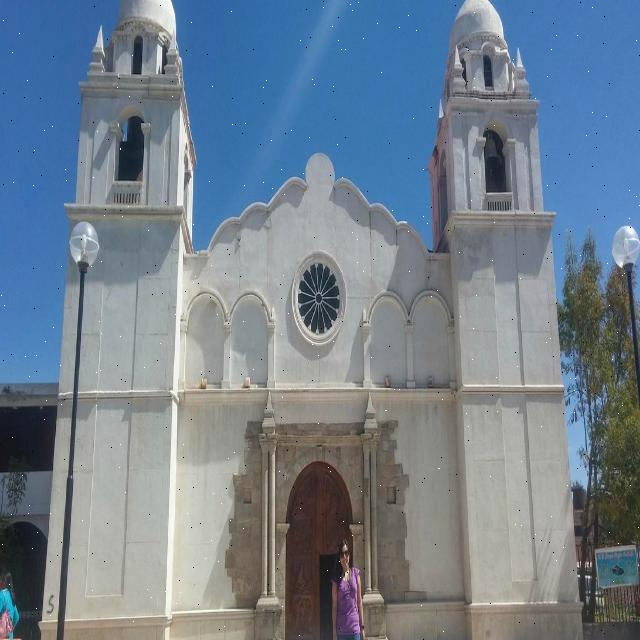CAMPANARIO: (419, 80, 564, 266), (60, 79, 182, 250)
CUPULA: (443, 0, 529, 70), (100, 0, 184, 64)
PORTADA CENTRAL: (268, 442, 376, 640)
SIMETRIA COLONIAL: (27, 0, 602, 640)
TORRES: (425, 0, 589, 640), (61, 0, 183, 640)
colonial-architecture-: (28, 0, 618, 640)
